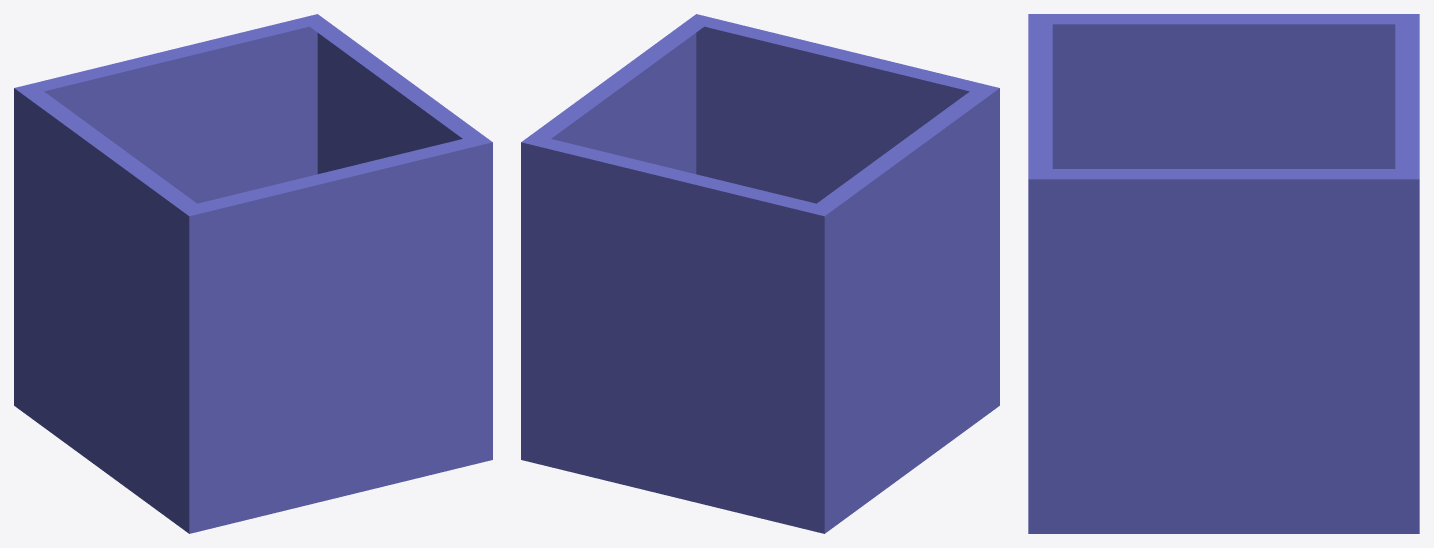
3 views of the same model, side by side, from view 1: azimuth 30°, elevation 25°; view 2: azimuth 150°, elevation 25°; view 3: azimuth 270°, elevation 25° (orthographic). The views are drawn at different scales.
Visible parts, largest first — view 1: Cube; view 2: Cube; view 3: Cube.
Boxes of the visible parts, bbox=[...] form: Cube: bbox=[14, 14, 492, 533]; Cube: bbox=[521, 14, 999, 533]; Cube: bbox=[1028, 14, 1419, 533].
Bounding box in the file's own units: 2 × 2 × 2.
